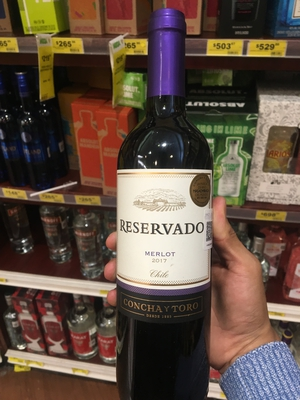reservado merlot: (93, 13, 225, 400)
